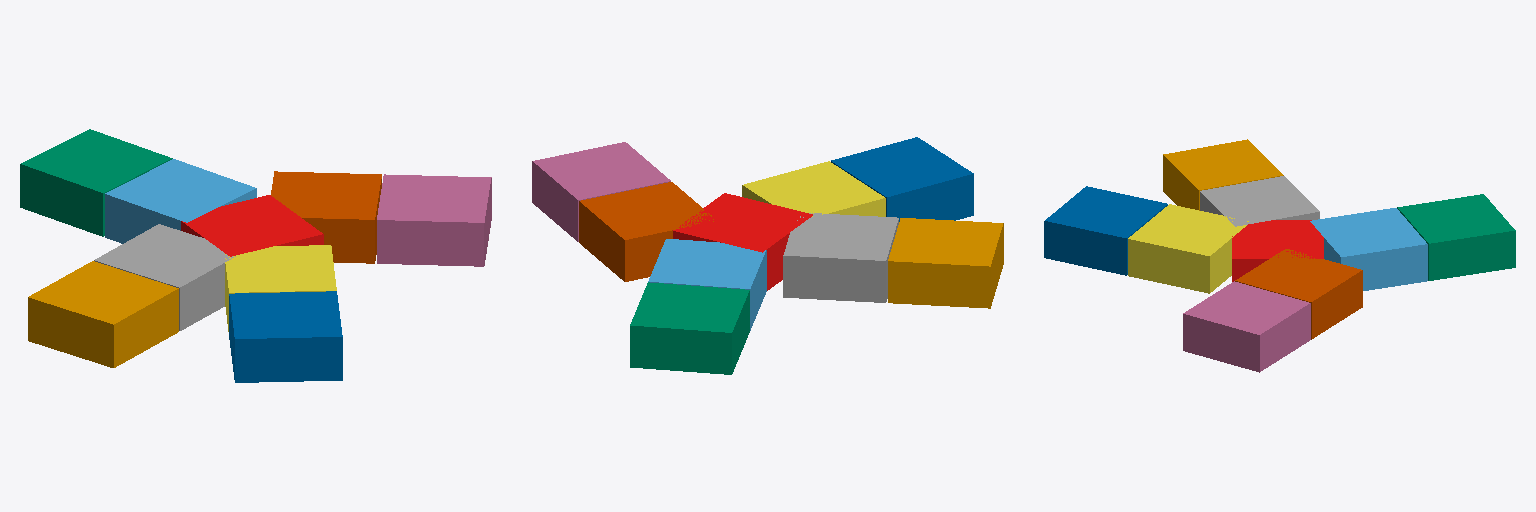
URDF robot description (Model_Models/Model_186.urdf60):
<?xml version='1.0' encoding='UTF-8'?>
<robot name="Model_Models/Model_186.urdf60">
  <link name="base_link">
    <inertial>
      <origin xyz="0.0 0.0 0.0" rpy="0.0 -0.0 0.0"/>
      <mass value="1.0"/>
      <inertia ixx="1.0" ixy="0.0" ixz="0.0" iyy="1.0" iyz="0.0" izz="1.0"/>
    </inertial>
    <visual>
      <geometry>
        <box size="0.67 0.67 0.3 "/>
      </geometry>
      <material name="red"/>
      <origin xyz="0.0 0.0 0.0" rpy="0.0 -0.0 0.0"/>
    </visual>
    <collision>
      <geometry>
        <box size="0.67 0.67 0.3 "/>
      </geometry>
      <origin xyz="0.0 0.0 0.0" rpy="0.0 0.0 0.0"/>
    </collision>
  </link>
  <link name="arm_0_arm1">
    <inertial>
      <origin xyz="0.0 0.34 0.0" rpy="0.0 0.0 0.0"/>
      <mass value="1.0"/>
      <inertia ixx="0.0" ixy="0.0" ixz="0.0" iyy="0.0" iyz="0.0" izz="0.0"/>
    </inertial>
    <visual>
      <geometry>
        <box size="0.67 0.67 0.3 "/>
      </geometry>
      <origin xyz="0.0 0.34 0.0" rpy="0.0 0.0 0.0"/>
    </visual>
    <collision>
      <geometry>
        <box size="0.67 0.67 0.3 "/>
      </geometry>
      <origin xyz="0.0 0.34 0.0" rpy="0.0 0.0 0.0"/>
    </collision>
  </link>
  <link name="arm_0_arm2">
    <inertial>
      <origin xyz="0.0 0.34 0.0" rpy="0.0 0.0 0.0"/>
      <mass value="1.0"/>
      <inertia ixx="0.0" ixy="0.0" ixz="0.0" iyy="0.0" iyz="0.0" izz="0.0"/>
    </inertial>
    <visual>
      <geometry>
        <box size="0.67 0.67 0.3 "/>
      </geometry>
      <origin xyz="0.0 0.34 0.0" rpy="0.0 0.0 0.0"/>
    </visual>
    <collision>
      <geometry>
        <box size="0.67 0.67 0.3 "/>
      </geometry>
      <origin xyz="0.0 0.34 0.0" rpy="0.0 0.0 0.0"/>
    </collision>
  </link>
  <link name="arm_1_arm1">
    <inertial>
      <origin xyz="0.0 0.34 0.0" rpy="0.0 0.0 0.0"/>
      <mass value="1.0"/>
      <inertia ixx="0.0" ixy="0.0" ixz="0.0" iyy="0.0" iyz="0.0" izz="0.0"/>
    </inertial>
    <visual>
      <geometry>
        <box size="0.67 0.67 0.3 "/>
      </geometry>
      <origin xyz="0.0 0.34 0.0" rpy="0.0 0.0 0.0"/>
    </visual>
    <collision>
      <geometry>
        <box size="0.67 0.67 0.3 "/>
      </geometry>
      <origin xyz="0.0 0.34 0.0" rpy="0.0 0.0 0.0"/>
    </collision>
  </link>
  <link name="arm_1_arm2">
    <inertial>
      <origin xyz="0.0 0.34 0.0" rpy="0.0 0.0 0.0"/>
      <mass value="1.0"/>
      <inertia ixx="0.0" ixy="0.0" ixz="0.0" iyy="0.0" iyz="0.0" izz="0.0"/>
    </inertial>
    <visual>
      <geometry>
        <box size="0.67 0.67 0.3 "/>
      </geometry>
      <origin xyz="0.0 0.34 0.0" rpy="0.0 0.0 0.0"/>
    </visual>
    <collision>
      <geometry>
        <box size="0.67 0.67 0.3 "/>
      </geometry>
      <origin xyz="0.0 0.34 0.0" rpy="0.0 0.0 0.0"/>
    </collision>
  </link>
  <link name="arm_2_arm1">
    <inertial>
      <origin xyz="0.0 0.34 0.0" rpy="0.0 0.0 0.0"/>
      <mass value="1.0"/>
      <inertia ixx="0.0" ixy="0.0" ixz="0.0" iyy="0.0" iyz="0.0" izz="0.0"/>
    </inertial>
    <visual>
      <geometry>
        <box size="0.67 0.67 0.3 "/>
      </geometry>
      <origin xyz="0.0 0.34 0.0" rpy="0.0 0.0 0.0"/>
    </visual>
    <collision>
      <geometry>
        <box size="0.67 0.67 0.3 "/>
      </geometry>
      <origin xyz="0.0 0.34 0.0" rpy="0.0 0.0 0.0"/>
    </collision>
  </link>
  <link name="arm_2_arm2">
    <inertial>
      <origin xyz="0.0 0.34 0.0" rpy="0.0 0.0 0.0"/>
      <mass value="1.0"/>
      <inertia ixx="0.0" ixy="0.0" ixz="0.0" iyy="0.0" iyz="0.0" izz="0.0"/>
    </inertial>
    <visual>
      <geometry>
        <box size="0.67 0.67 0.3 "/>
      </geometry>
      <origin xyz="0.0 0.34 0.0" rpy="0.0 0.0 0.0"/>
    </visual>
    <collision>
      <geometry>
        <box size="0.67 0.67 0.3 "/>
      </geometry>
      <origin xyz="0.0 0.34 0.0" rpy="0.0 0.0 0.0"/>
    </collision>
  </link>
  <link name="arm_Permutation_60_arm1">
    <inertial>
      <origin xyz="0.0 0.34 0.0" rpy="0.0 0.0 0.0"/>
      <mass value="1.0"/>
      <inertia ixx="0.0" ixy="0.0" ixz="0.0" iyy="0.0" iyz="0.0" izz="0.0"/>
    </inertial>
    <visual>
      <geometry>
        <box size="0.67 0.67 0.3 "/>
      </geometry>
      <origin xyz="0.0 0.34 0.0" rpy="0.0 0.0 0.0"/>
    </visual>
    <collision>
      <geometry>
        <box size="0.67 0.67 0.3 "/>
      </geometry>
      <origin xyz="0.0 0.34 0.0" rpy="0.0 0.0 0.0"/>
    </collision>
  </link>
  <link name="arm_Permutation_60_arm2">
    <inertial>
      <origin xyz="0.0 0.34 0.0" rpy="0.0 0.0 0.0"/>
      <mass value="1.0"/>
      <inertia ixx="0.0" ixy="0.0" ixz="0.0" iyy="0.0" iyz="0.0" izz="0.0"/>
    </inertial>
    <visual>
      <geometry>
        <box size="0.67 0.67 0.3 "/>
      </geometry>
      <origin xyz="0.0 0.34 0.0" rpy="0.0 0.0 0.0"/>
    </visual>
    <collision>
      <geometry>
        <box size="0.67 0.67 0.3 "/>
      </geometry>
      <origin xyz="0.0 0.34 0.0" rpy="0.0 0.0 0.0"/>
    </collision>
  </link>
  <joint name="arm_0_jointBase" type="fixed">
    <limit effort="1.57" velocity="1.57" lower="-1.57" upper="1.57"/>
    <parent link="base_link"/>
    <child link="arm_0_arm1"/>
    <axis xyz="1. 0. 0."/>
    <origin xyz="0.0 0.34 0.0" rpy="0.0 0.0 0.35"/>
  </joint>
  <joint name="arm_0_joint1" type="revolute">
    <limit effort="1.57" velocity="1.57" lower="-1.57" upper="1.57"/>
    <parent link="arm_0_arm1"/>
    <child link="arm_0_arm2"/>
    <axis xyz="1. 0. 0."/>
    <origin xyz="0.0 0.68 0.0" rpy="0.0 0.0 0.0"/>
  </joint>
  <joint name="arm_1_jointBase" type="fixed">
    <limit effort="1.57" velocity="1.57" lower="-1.57" upper="1.57"/>
    <parent link="base_link"/>
    <child link="arm_1_arm1"/>
    <axis xyz="1. 0. 0."/>
    <origin xyz="0.0 -0.34 0.0" rpy="0.0 0.0 2.67"/>
  </joint>
  <joint name="arm_1_joint1" type="revolute">
    <limit effort="1.57" velocity="1.57" lower="-1.57" upper="1.57"/>
    <parent link="arm_1_arm1"/>
    <child link="arm_1_arm2"/>
    <axis xyz="1. 0. 0."/>
    <origin xyz="0.0 0.68 0.0" rpy="0.0 0.0 0.0"/>
  </joint>
  <joint name="arm_2_jointBase" type="fixed">
    <limit effort="1.57" velocity="1.57" lower="-1.57" upper="1.57"/>
    <parent link="base_link"/>
    <child link="arm_2_arm1"/>
    <axis xyz="1. 0. 0."/>
    <origin xyz="0.34 0.34 0.0" rpy="0.0 0.0 -2.16"/>
  </joint>
  <joint name="arm_2_joint1" type="revolute">
    <limit effort="1.57" velocity="1.57" lower="-1.57" upper="1.57"/>
    <parent link="arm_2_arm1"/>
    <child link="arm_2_arm2"/>
    <axis xyz="1. 0. 0."/>
    <origin xyz="0.0 0.68 0.0" rpy="0.0 0.0 0.0"/>
  </joint>
  <joint name="arm_Permutation_60_jointBase" type="fixed">
    <limit effort="1.57" velocity="1.57" lower="-1.57" upper="1.57"/>
    <parent link="base_link"/>
    <child link="arm_Permutation_60_arm1"/>
    <axis xyz="1. 0. 0."/>
    <origin xyz="-0.34 0.0 0.0" rpy="0.0 0.0 1.97"/>
  </joint>
  <joint name="arm_Permutation_60_joint1" type="revolute">
    <limit effort="1.57" velocity="1.57" lower="-1.57" upper="1.57"/>
    <parent link="arm_Permutation_60_arm1"/>
    <child link="arm_Permutation_60_arm2"/>
    <axis xyz="1. 0. 0."/>
    <origin xyz="0.0 0.68 0.0" rpy="0.0 0.0 0.0"/>
  </joint>
  <material name="red">
    <color rgba="0.969 0.129 0.122 1.   "/>
  </material>
</robot>

--- What the picture shows (computed from the rendered views, not written in the file) ---
3 views of the same robot in one strip: view 1: azimuth 30°, elevation 25°; view 2: azimuth 150°, elevation 25°; view 3: azimuth 270°, elevation 25° (orthographic).
Model Model_Models/Model_186.urdf60 with 9 links and 8 joints (4 revolute, 4 fixed), rooted at base_link, posed all joints at 0.
Visible links, largest first — view 1: arm_Permutation_60_arm2, arm_2_arm2, arm_1_arm2, arm_0_arm2, arm_0_arm1, arm_2_arm1, arm_Permutation_60_arm1, base_link, arm_1_arm1; view 2: arm_0_arm2, arm_Permutation_60_arm2, arm_Permutation_60_arm1, arm_2_arm1, arm_1_arm2, arm_2_arm2, base_link, arm_0_arm1, arm_1_arm1; view 3: arm_2_arm2, arm_1_arm1, arm_0_arm2, arm_1_arm2, arm_0_arm1, arm_2_arm1, arm_Permutation_60_arm2, arm_Permutation_60_arm1, base_link.
Boxes of the visible links, x1,y1,x2,y2 form: arm_Permutation_60_arm2: (28,261,178,367); arm_2_arm2: (377,174,491,266); arm_1_arm2: (229,291,342,382); arm_0_arm2: (20,129,172,236); arm_0_arm1: (105,159,256,243); arm_2_arm1: (271,171,381,263); arm_Permutation_60_arm1: (94,224,235,330); base_link: (181,195,323,256); arm_1_arm1: (225,245,336,331); arm_0_arm2: (630,282,749,374); arm_Permutation_60_arm2: (888,218,1003,308); arm_Permutation_60_arm1: (783,213,898,302); arm_2_arm1: (579,182,713,281); arm_1_arm2: (831,137,973,221); arm_2_arm2: (532,142,670,241); base_link: (673,193,812,290); arm_0_arm1: (648,239,766,330); arm_1_arm1: (742,161,885,216); arm_2_arm2: (1183,281,1310,372); arm_1_arm1: (1128,204,1248,293); arm_0_arm2: (1397,194,1515,280); arm_1_arm2: (1044,186,1167,275); arm_0_arm1: (1310,208,1427,290); arm_2_arm1: (1235,249,1362,339); arm_Permutation_60_arm2: (1163,139,1283,210); arm_Permutation_60_arm1: (1200,176,1319,226); base_link: (1232,220,1323,281).
Size in the robot's own frame: 3.37 by 3.43 by 0.3 metres.
Geometry: primitives only (box / cylinder / sphere), no mesh files.